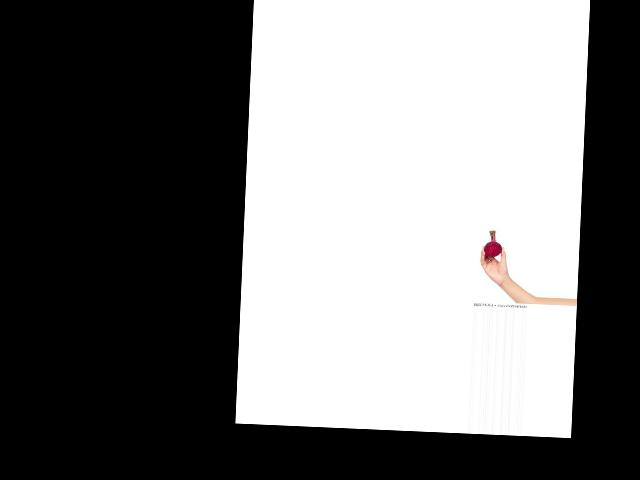beet: (483, 230, 502, 257)
